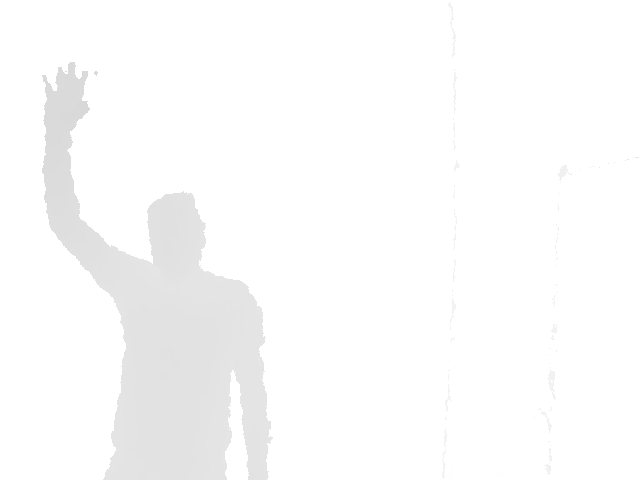hand: (40, 62, 91, 130)
head: (146, 192, 208, 273)
person: (40, 62, 274, 480)
